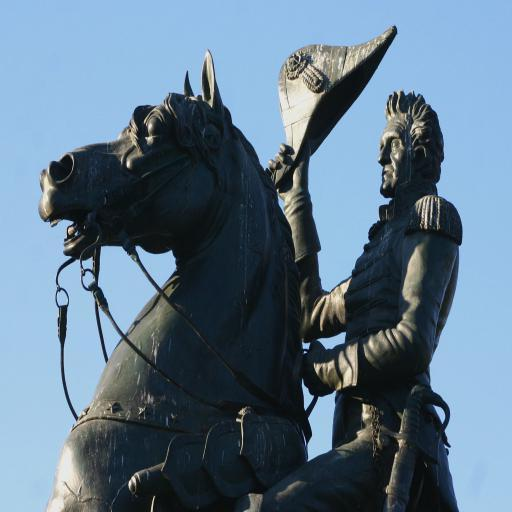horse: (36, 48, 310, 512)
